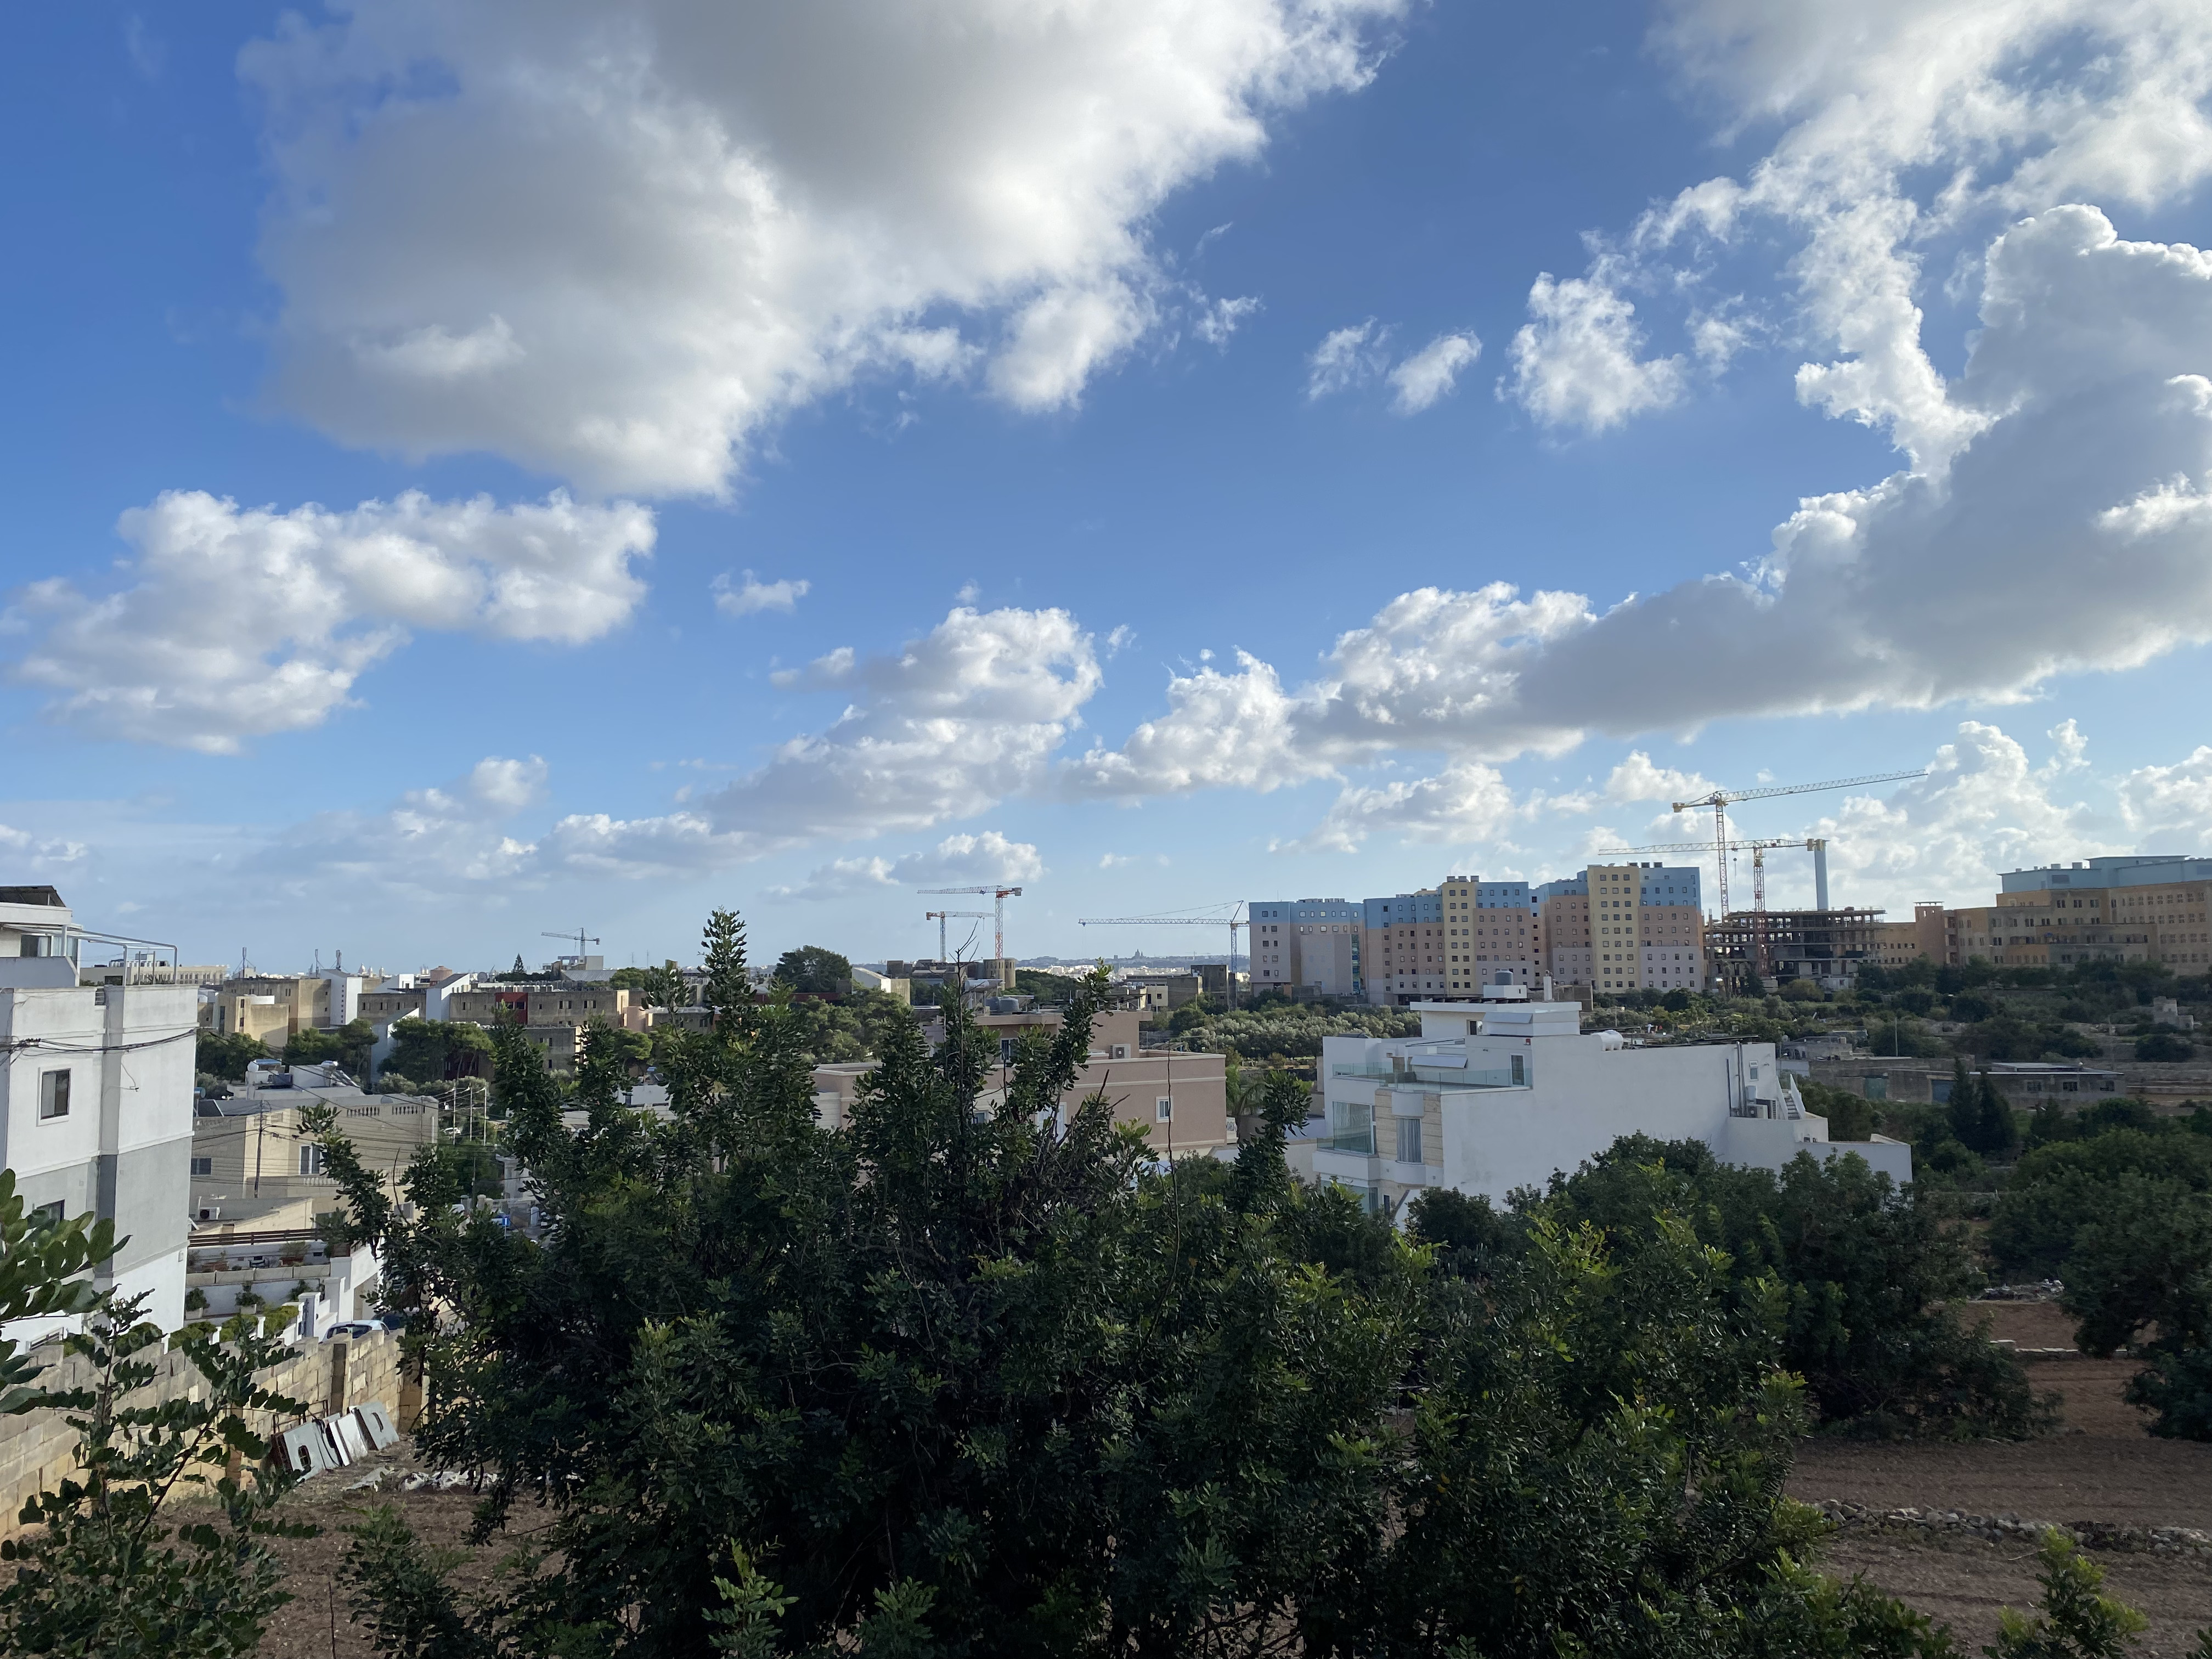Crane: (1583, 746, 1958, 911), (1601, 817, 1824, 920), (1073, 885, 1275, 962), (913, 868, 1052, 962), (536, 913, 622, 957)
